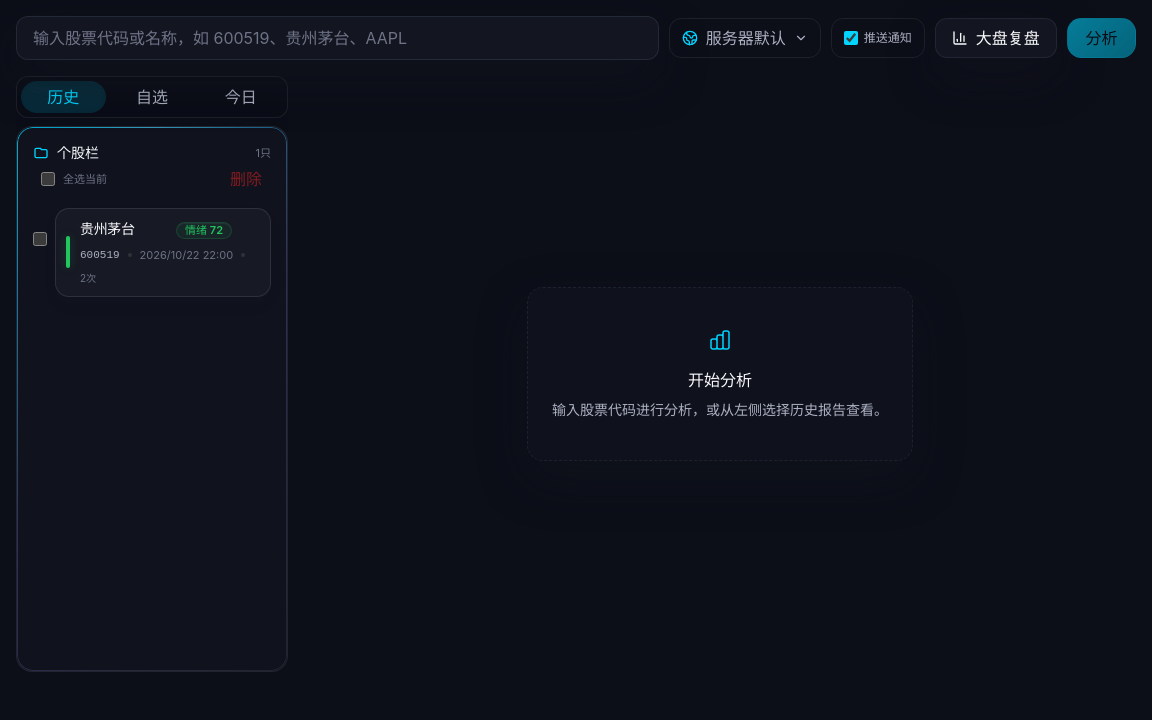
it: HomePage › keeps pending watchlist submission disabled while fallback history lookup is unresolved
Click the button "自选".
click(152, 97)  # box [110,81,194,113]
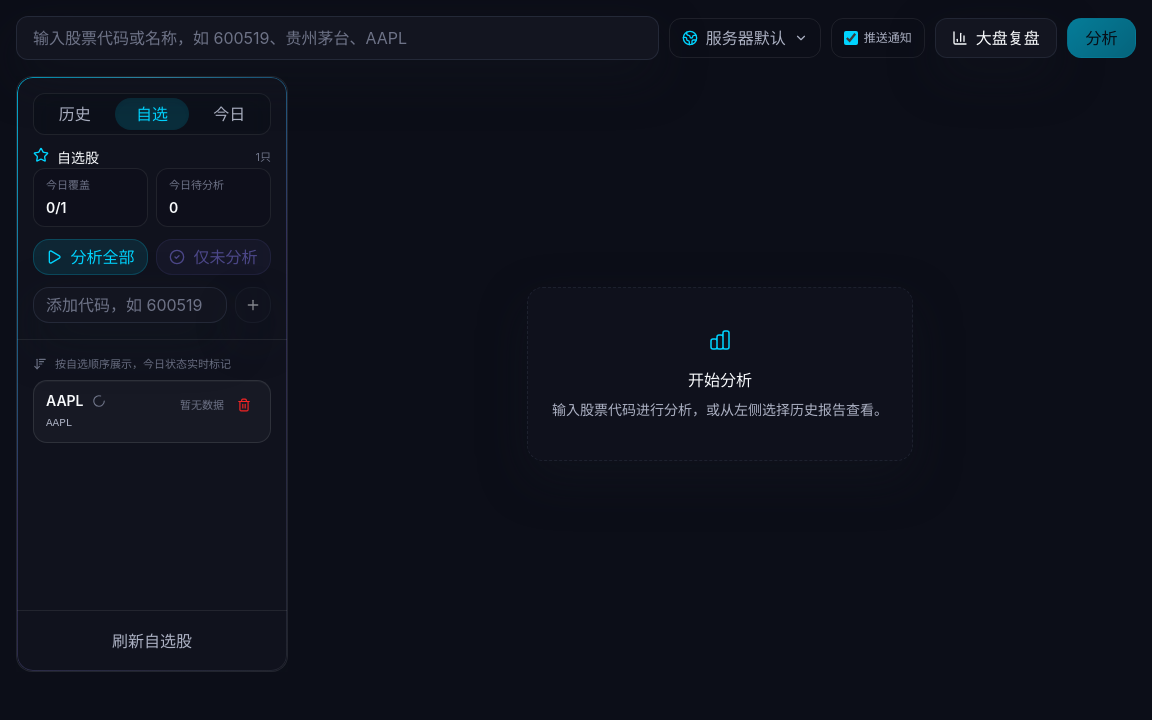
Now the icon named "确认今日状态中" is shown, box [92,394,106,408]
Now the button "仅未分析" is disabled
Click the button "仅未分析".
click(214, 256)  # box [156,238,271,274]
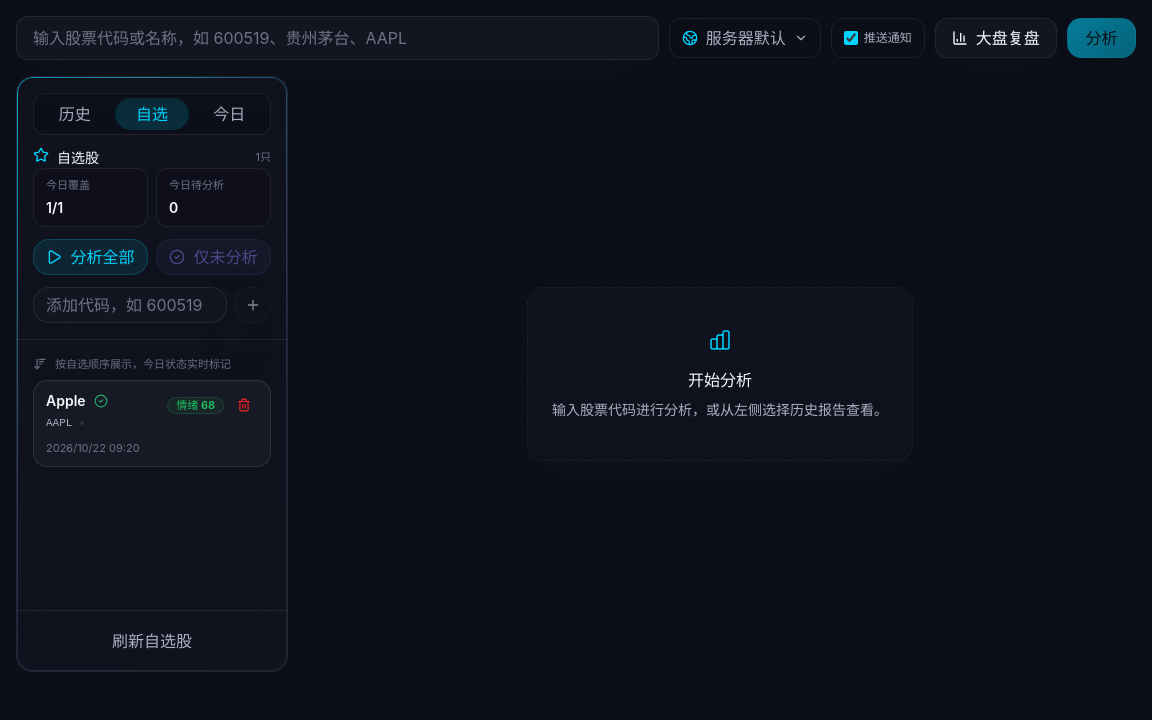
Now the icon named "今日已分析" is shown, box [94,394,108,408]
